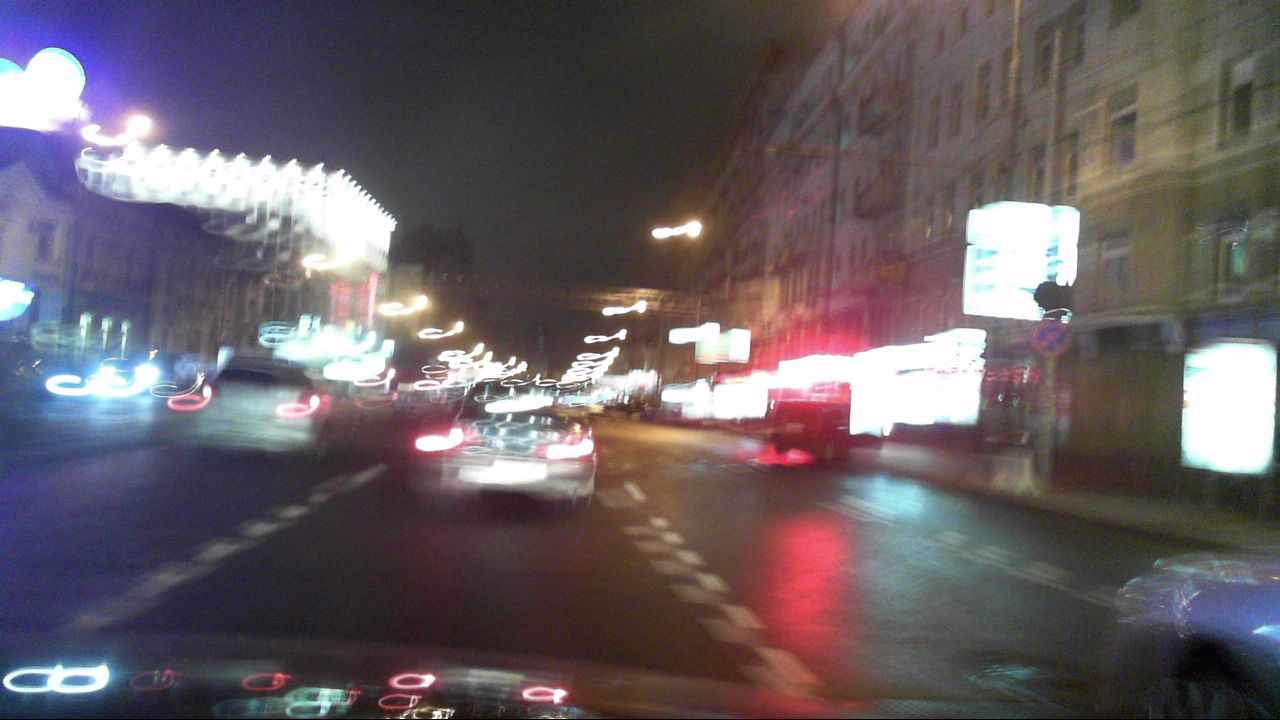No Parking: (1030, 320, 1067, 356)
